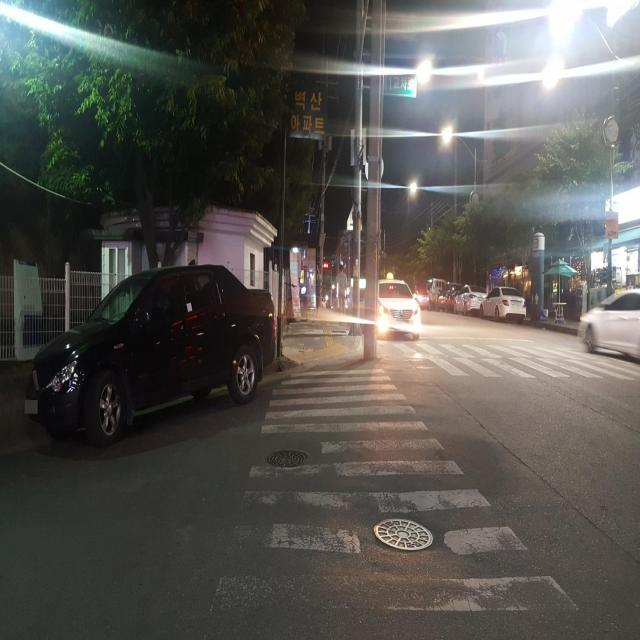횡단보도: (206, 368, 584, 625), (380, 334, 640, 382)
